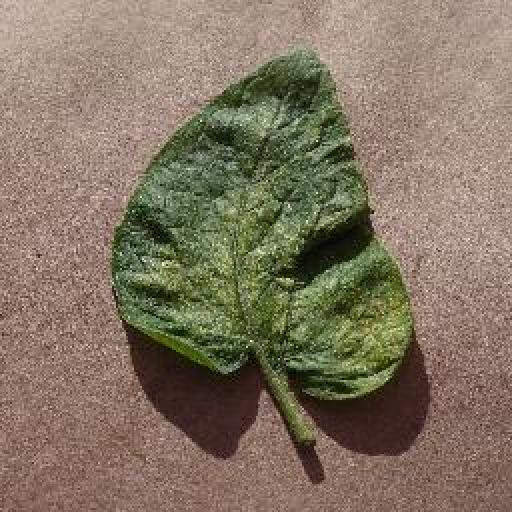disease_tomato: (116, 48, 415, 400)
